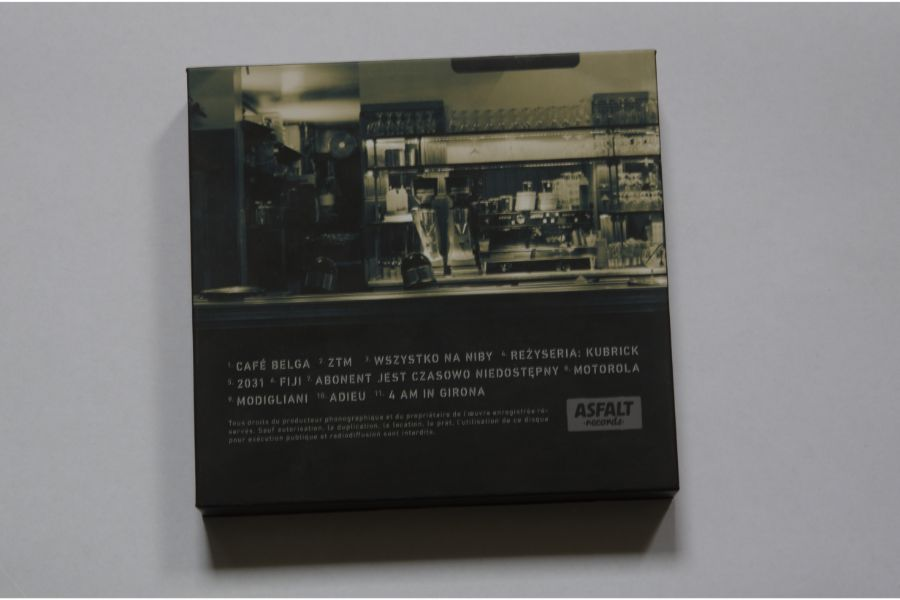album: (186, 44, 684, 518)
